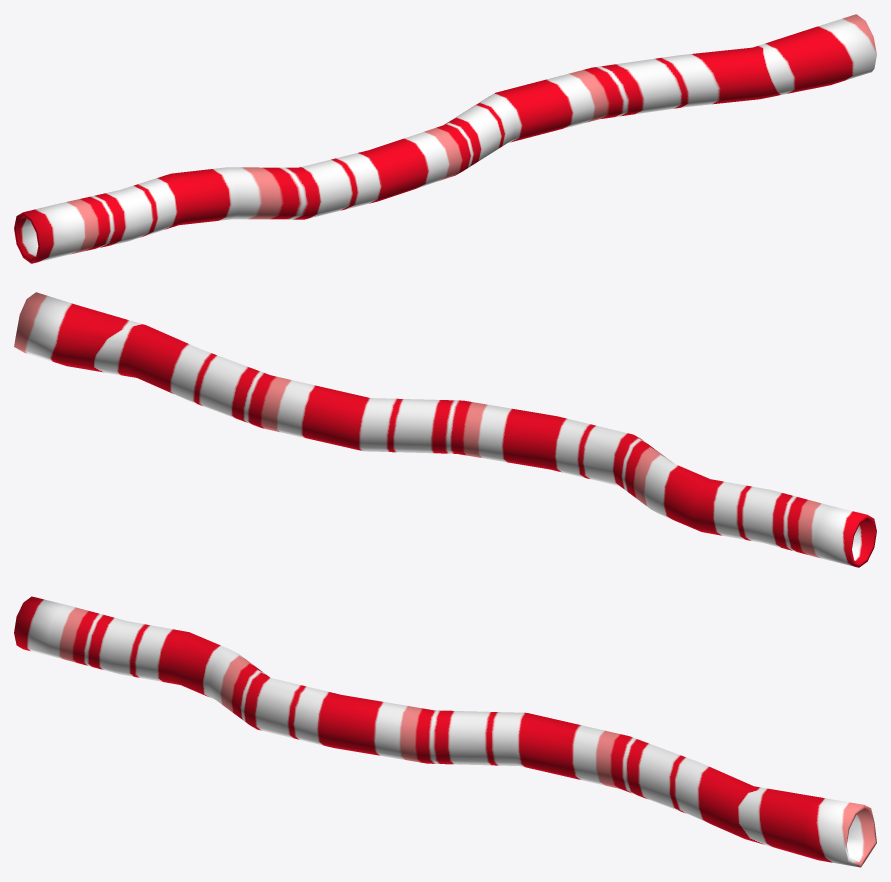
File: CandyTwistTunnel4.fbx
The picture shows the model from 3 angles, top to bottom: view 1: azimuth 30°, elevation 25°; view 2: azimuth 150°, elevation 25°; view 3: azimuth 330°, elevation 25°; orthographic projection. The views are drawn at different scales.
Parts seen in each view (by area): view 1: Cylinder.008; view 2: Cylinder.008; view 3: Cylinder.008.
Part boxes in pixels (box(x1,y1,x2,y2)): Cylinder.008: box(14, 14, 876, 263); Cylinder.008: box(14, 292, 876, 567); Cylinder.008: box(14, 596, 876, 867).
Size of the model in its own units: 1721 by 110 by 199.
